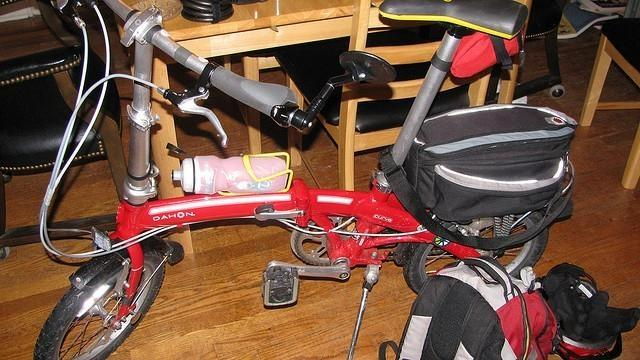bicycle: (33, 0, 550, 360)
